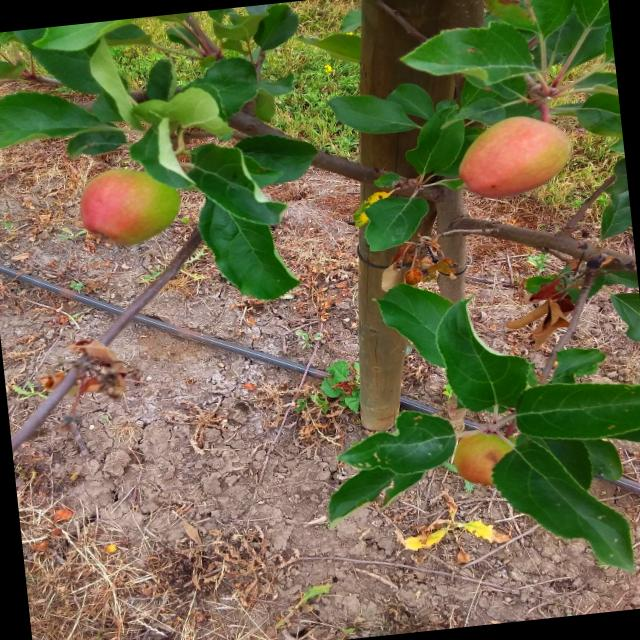-FireBlight-: (524, 283, 580, 340), (390, 240, 454, 284)
